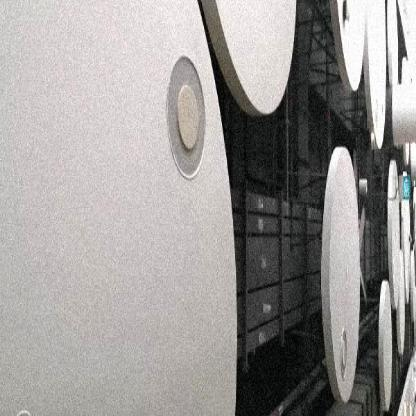light_off: (158, 30, 208, 202)
